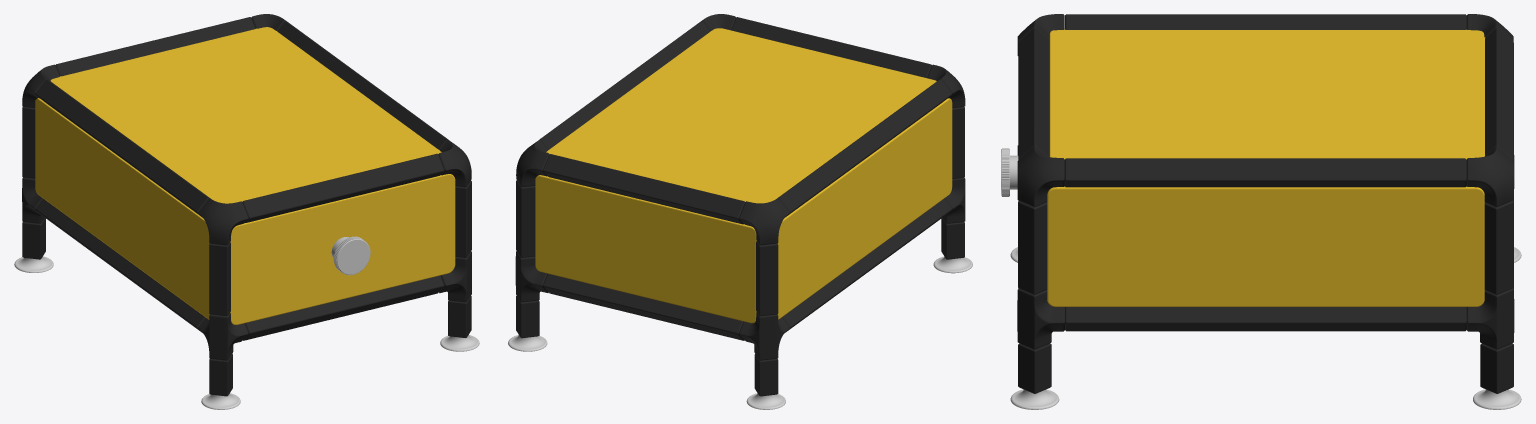
3 renders of one model, left to right at view 1: azimuth 30°, elevation 25°; view 2: azimuth 150°, elevation 25°; view 3: azimuth 270°, elevation 25°, orthographic. The views are drawn at different scales.
Parts seen in each view (by area): view 1: 229x329x79; view 2: 229x329x79; view 3: 229x329x79.
Boxes of the visible parts, left/top/right/bottom form: 229x329x79: left=14, top=14, right=479, bottom=409; 229x329x79: left=508, top=14, right=972, bottom=409; 229x329x79: left=1001, top=14, right=1521, bottom=409.
Bounding box in the file's own units: 0.3189 × 0.2183 × 0.4257.
